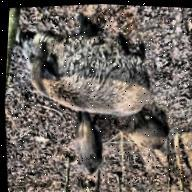boar: (3, 0, 192, 135), (49, 117, 123, 192), (120, 90, 192, 164)
